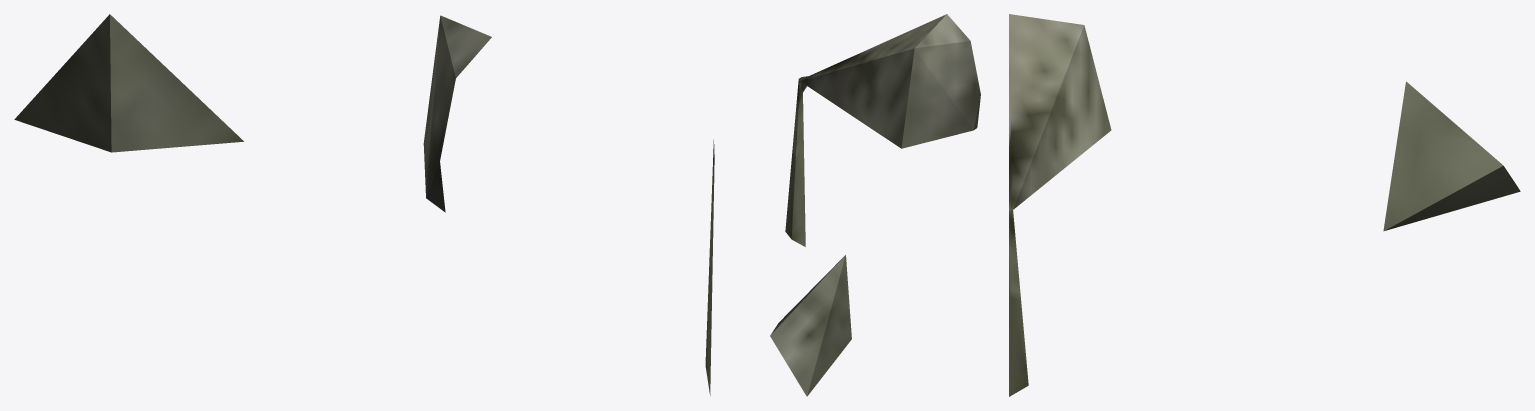
The picture shows the model from 3 angles, left to right: view 1: azimuth 30°, elevation 25°; view 2: azimuth 150°, elevation 25°; view 3: azimuth 270°, elevation 25°; orthographic projection. The views are drawn at different scales.
Bounding box in the file's own units: 0.2559 × 0.2655 × 0.4044.
Materials: 1 (1 with a texture image).
